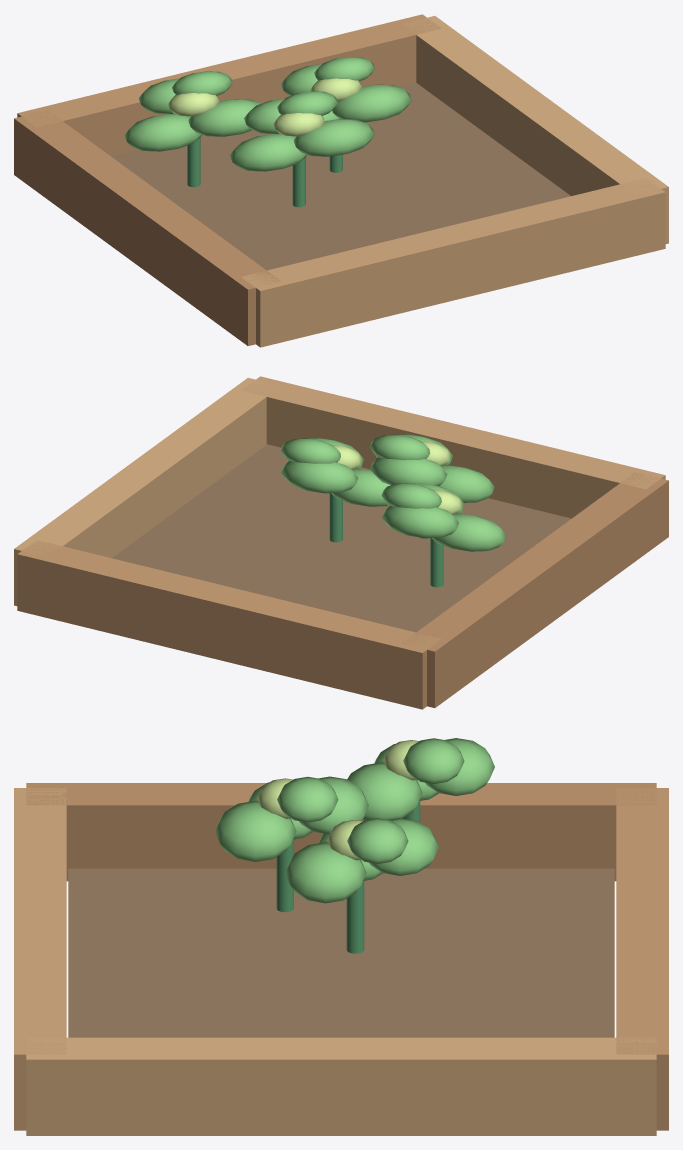
The model's file is crop_leafy_early.glb.
The picture shows the model from 3 angles, top to bottom: view 1: azimuth 30°, elevation 25°; view 2: azimuth 150°, elevation 25°; view 3: azimuth 270°, elevation 25°; orthographic projection. The views are drawn at different scales.
Size of the model in its own units: 0.935 by 0.2995 by 0.935.
